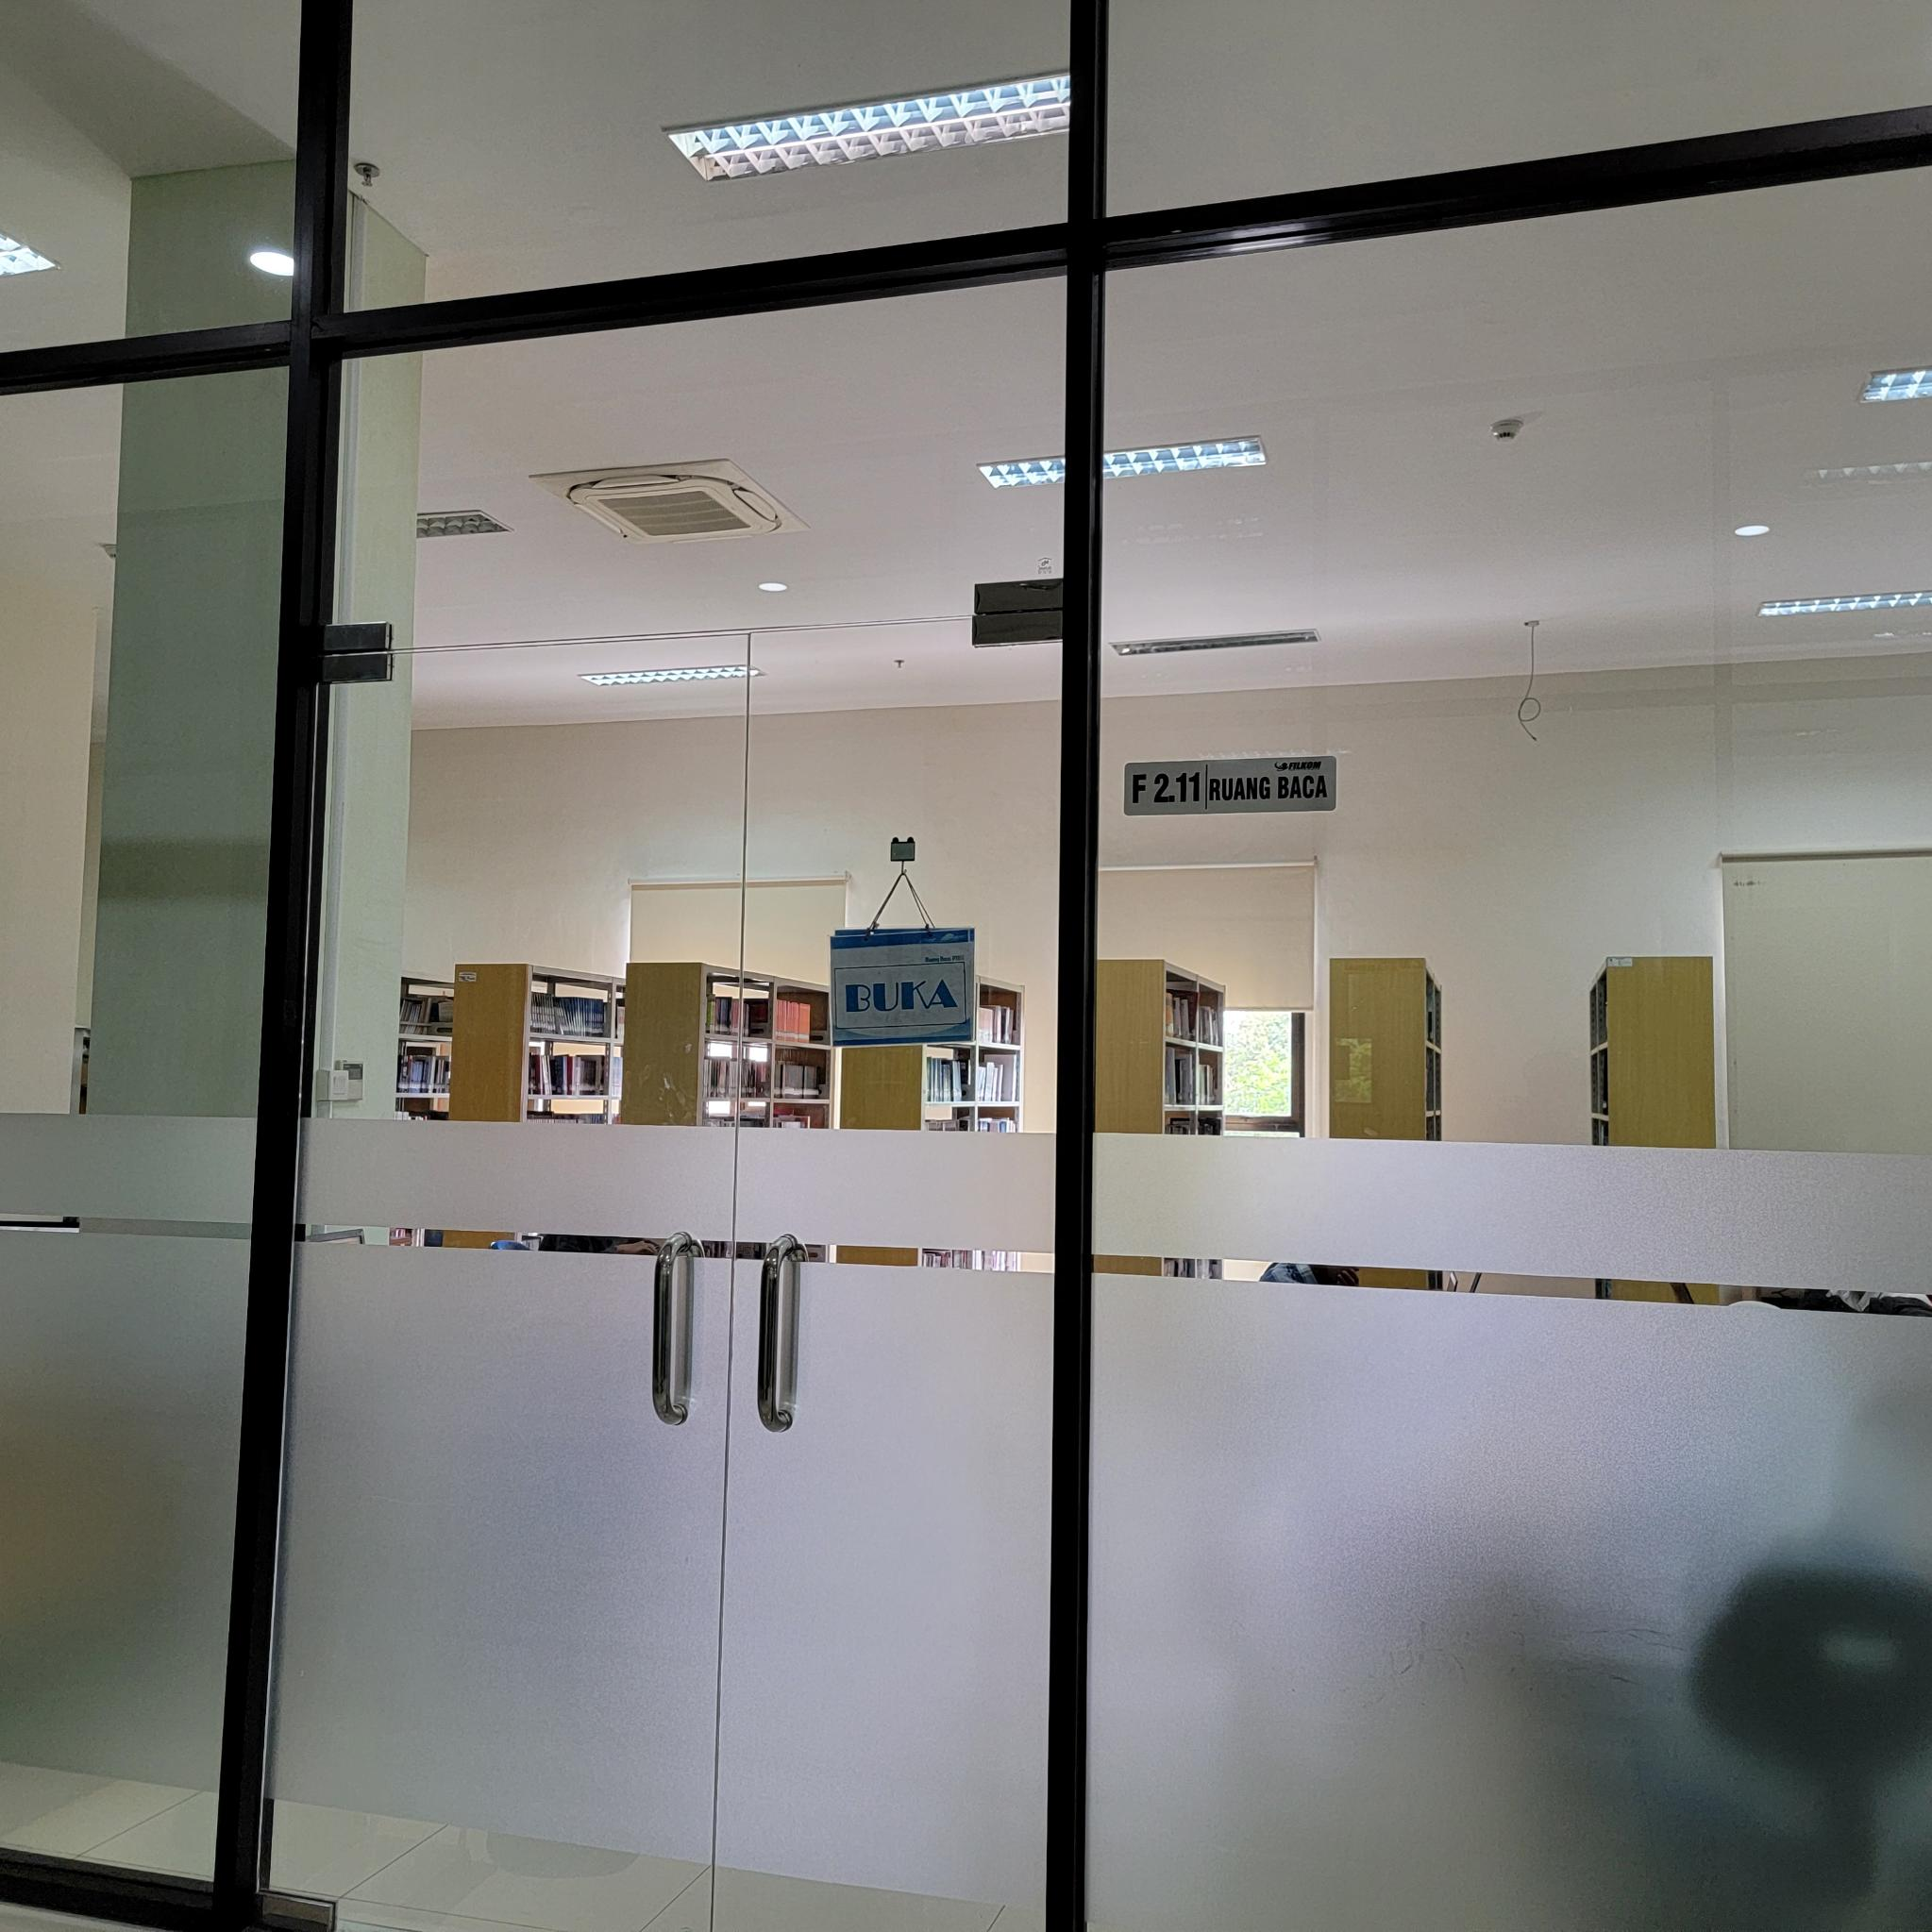plate: (1125, 759, 1339, 814)
